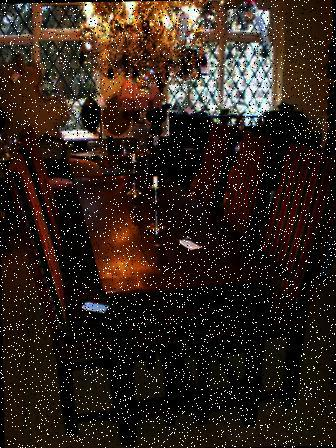Mesa: (68, 163, 291, 447)
Silla: (8, 149, 178, 439), (187, 141, 335, 439), (17, 121, 150, 338), (168, 128, 285, 325)
